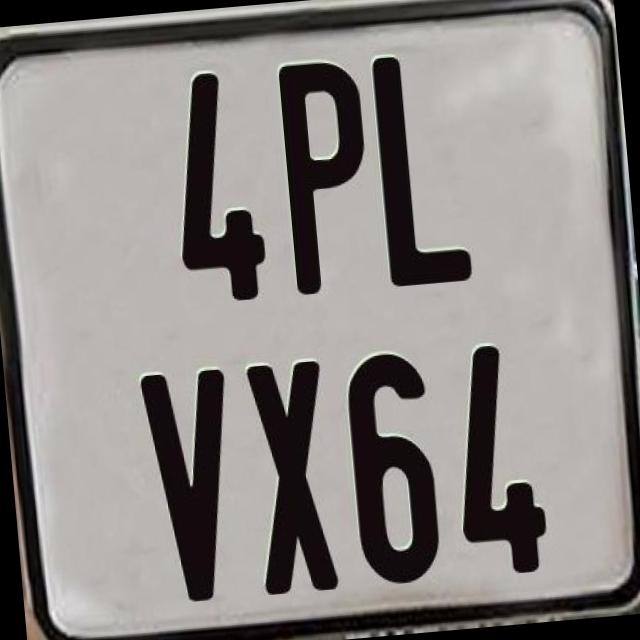4: (163, 66, 266, 308), (443, 342, 546, 579)
6: (342, 346, 448, 590)
L: (369, 47, 476, 286)
P: (278, 56, 380, 298)
V: (138, 368, 250, 607)
X: (241, 358, 337, 598)
